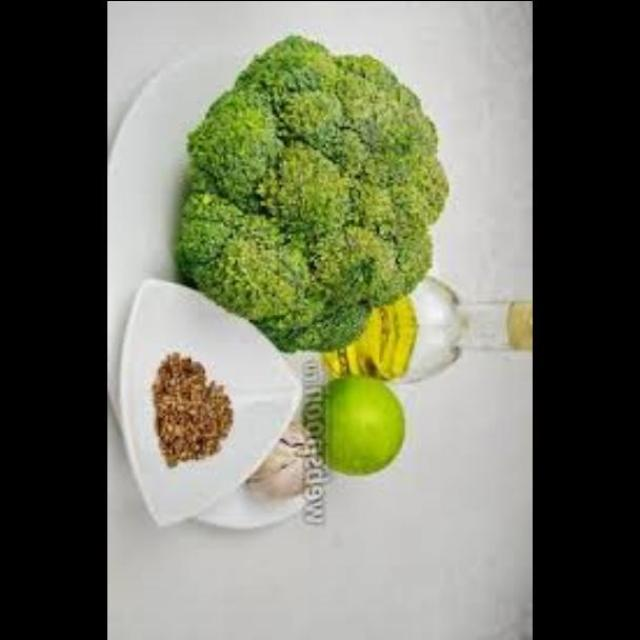Broccoli: (125, 0, 452, 347)
garlic: (248, 411, 328, 509)
